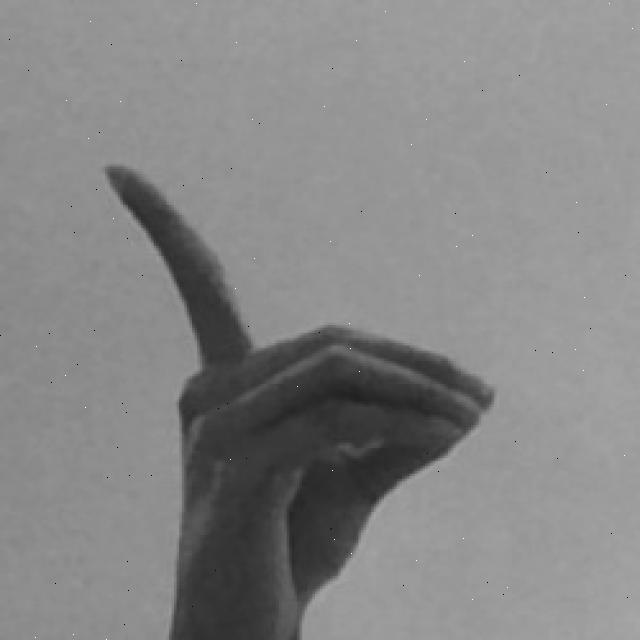D: (102, 163, 500, 640)
